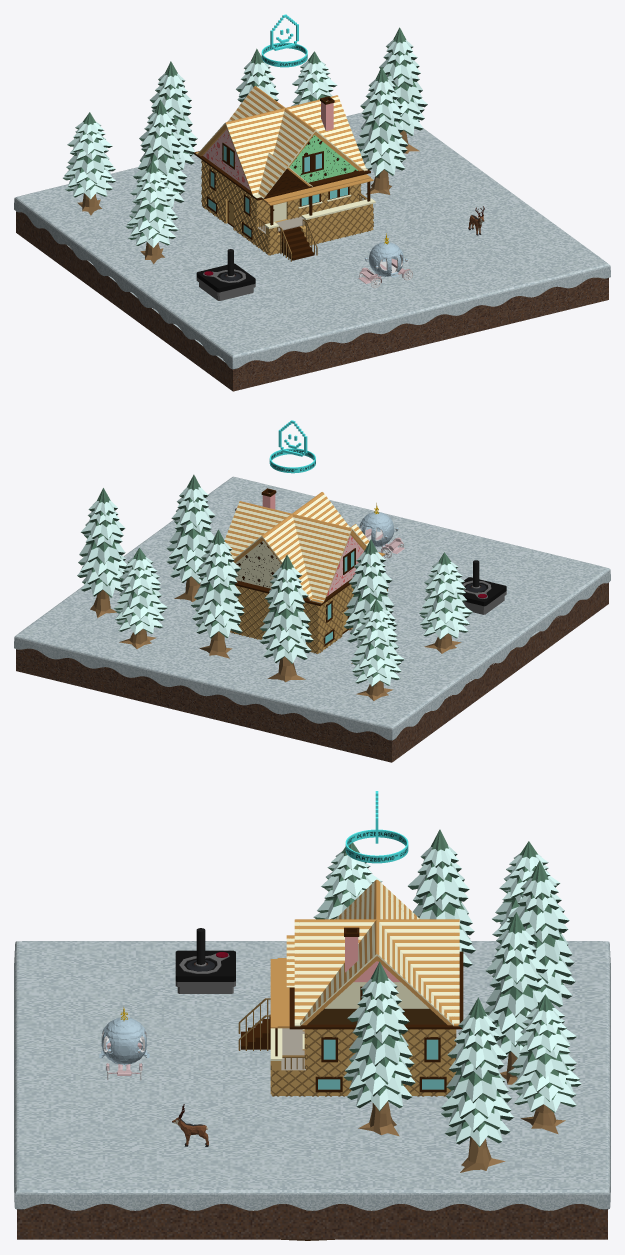
3 renders of one model, top to bottom at view 1: azimuth 30°, elevation 25°; view 2: azimuth 150°, elevation 25°; view 3: azimuth 270°, elevation 25°, orthographic. The views are drawn at different scales.
Visible parts, largest first — view 1: Cube.003, Cube.1102, OBJRANDOM_JOYSTICK, VEHICLES_FANTASY_CARRIAGE, TYPE_PREMIUM; view 2: Cube.003, Cube.1102, OBJRANDOM_JOYSTICK, VEHICLES_FANTASY_CARRIAGE, TYPE_PREMIUM; view 3: Cube.003, Cube.1102, OBJRANDOM_JOYSTICK, VEHICLES_FANTASY_CARRIAGE, TYPE_PREMIUM.
Boxes of the visible parts, x1,y1,x2,y2 form: Cube.003: (14, 27, 610, 391); Cube.1102: (193, 86, 375, 261); OBJRANDOM_JOYSTICK: (196, 249, 255, 300); VEHICLES_FANTASY_CARRIAGE: (358, 233, 412, 288); TYPE_PREMIUM: (261, 14, 307, 67); Cube.003: (14, 474, 610, 762); Cube.1102: (224, 488, 387, 653); OBJRANDOM_JOYSTICK: (462, 560, 506, 614); VEHICLES_FANTASY_CARRIAGE: (359, 503, 404, 558); TYPE_PREMIUM: (269, 420, 315, 473); Cube.003: (14, 829, 610, 1239); Cube.1102: (238, 879, 463, 1096); OBJRANDOM_JOYSTICK: (175, 928, 235, 993); VEHICLES_FANTASY_CARRIAGE: (99, 1007, 149, 1080); TYPE_PREMIUM: (345, 791, 408, 863).
Size of the model in its own units: 4040 by 2534 by 4040.
Materials: 35 (5 with a texture image).
